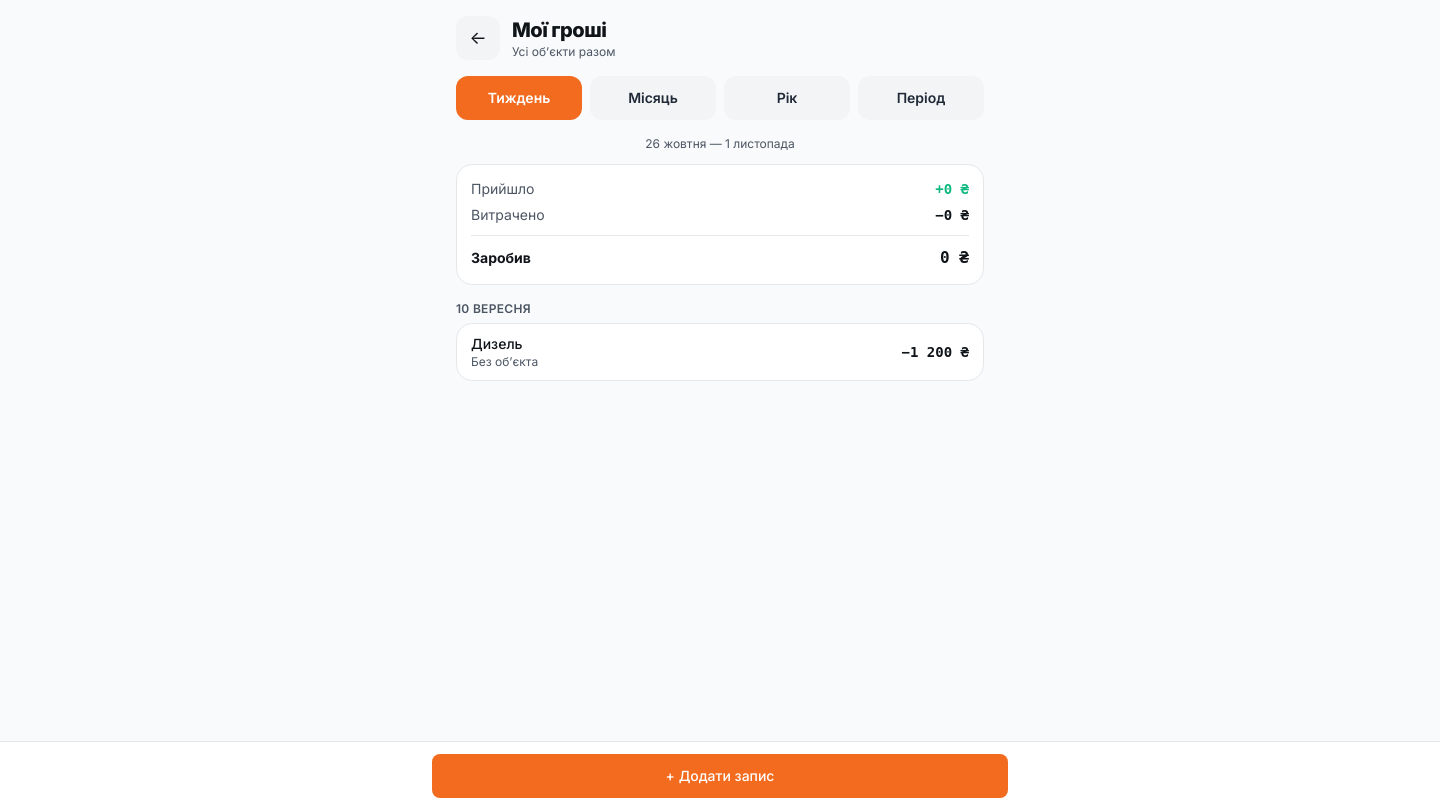
Test: CashFlowPage › opens his OWN row for editing
Step 1. Click the text "Дизель" → point(497, 344), box [471, 335, 522, 352]
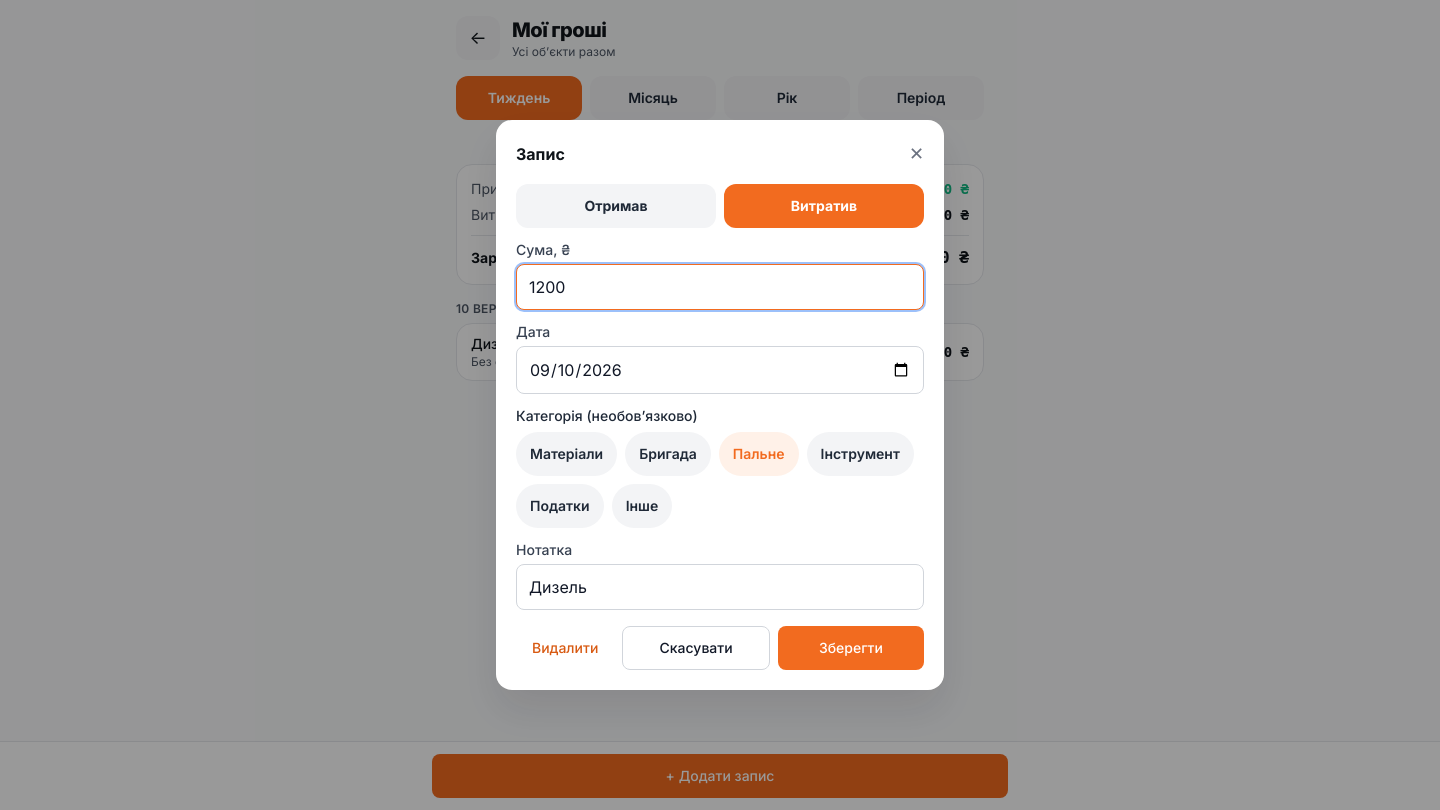
Check: the heading "Запис" is shown, box [516, 142, 565, 166]
Check: the button "Витратив" is shown, box [724, 184, 924, 228]
